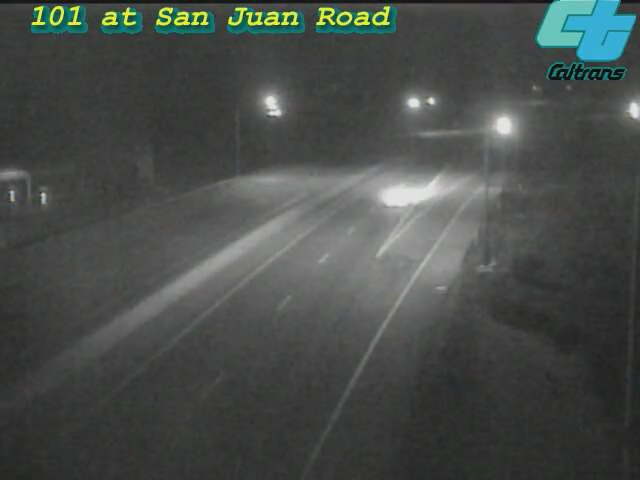vehicle: (356, 156, 436, 236), (479, 100, 529, 150), (608, 85, 640, 135)
